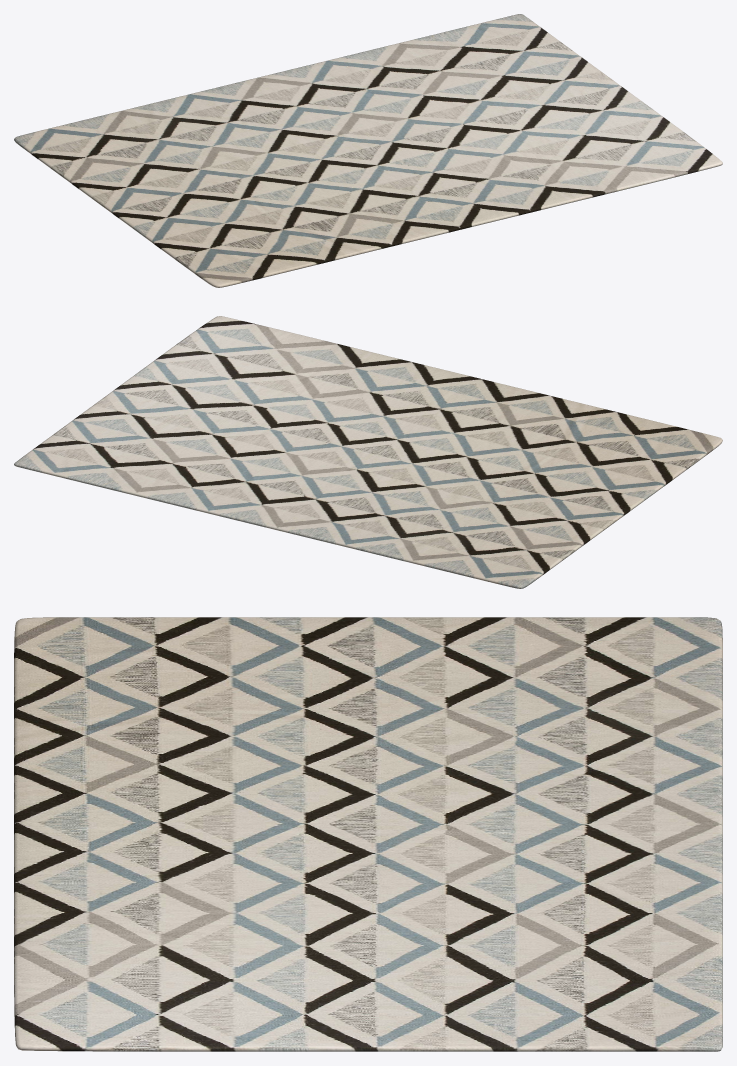
File: Akia Hand Woven Rug 160 X 230cm.FBX
The picture shows the model from 3 angles, top to bottom: view 1: azimuth 30°, elevation 25°; view 2: azimuth 150°, elevation 25°; view 3: azimuth 270°, elevation 25°; orthographic projection. The views are drawn at different scales.
Parts seen in each view (by area): view 1: Akia_Hand_Woven_Rug_160_X_230cm; view 2: Akia_Hand_Woven_Rug_160_X_230cm; view 3: Akia_Hand_Woven_Rug_160_X_230cm.
Boxes of the visible parts, bbox=[...] form: Akia_Hand_Woven_Rug_160_X_230cm: bbox=[14, 14, 722, 287]; Akia_Hand_Woven_Rug_160_X_230cm: bbox=[14, 316, 722, 588]; Akia_Hand_Woven_Rug_160_X_230cm: bbox=[14, 617, 722, 1051].
Size of the model in its own units: 230 by 1.57 by 160.
